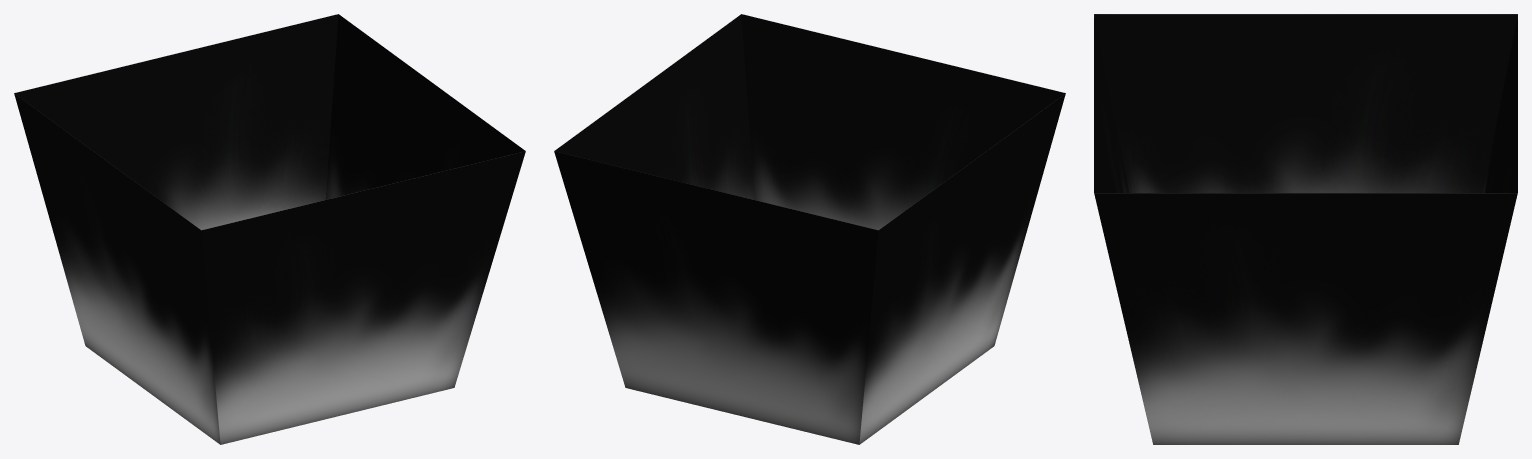
3 renders of one model, left to right at view 1: azimuth 30°, elevation 25°; view 2: azimuth 150°, elevation 25°; view 3: azimuth 270°, elevation 25°, orthographic. The views are drawn at different scales.
Parts seen in each view (by area): view 1: Box001; view 2: Box001; view 3: Box001.
Part boxes in pixels (x1,y1,x2,y2): Box001: (14,14,525,444); Box001: (554,14,1065,444); Box001: (1094,14,1517,444).
Bounding box in the file's own units: 0.1387 × 0.1 × 0.1387.
Materials: 1 (1 with a texture image).
